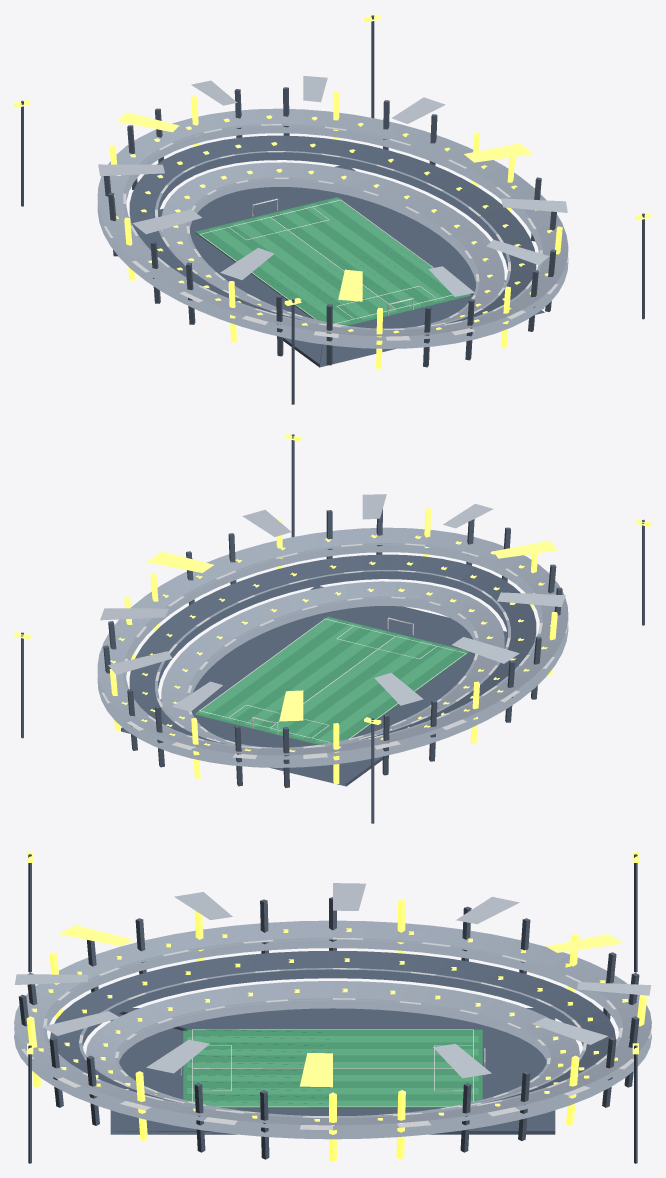
The model's file is maracana.glb.
3 views of the same model, one above another, from view 1: azimuth 30°, elevation 25°; view 2: azimuth 150°, elevation 25°; view 3: azimuth 270°, elevation 25° (orthographic). The views are drawn at different scales.
Parts seen in each view (by area): view 1: Maracanã; view 2: Maracanã; view 3: Maracanã.
Part boxes in pixels (<box>): Maracanã: <box>14,14,651,404</box>; Maracanã: <box>14,433,651,823</box>; Maracanã: <box>14,852,651,1163</box>.
Size of the model in its own units: 63.2 by 17.65 by 83.2.
